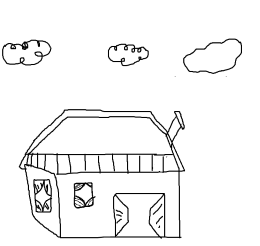bottom_placed_house: (0, 0, 260, 244)
chimney: (157, 100, 189, 150)
clouds: (172, 30, 250, 82), (1, 35, 56, 72), (100, 37, 151, 70)
door: (108, 187, 170, 243)
open_window: (72, 177, 104, 216), (30, 176, 55, 219)
roof: (12, 102, 200, 178)
wall: (51, 162, 187, 242)
